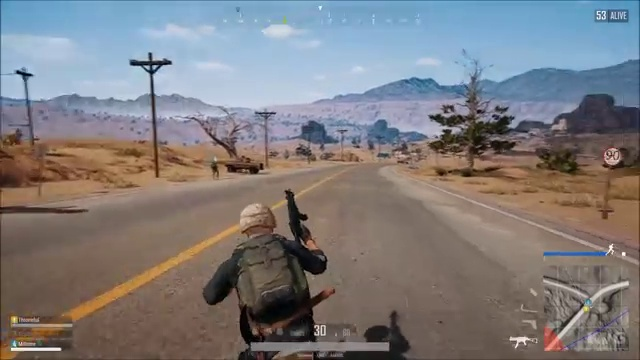Player: (173, 185, 376, 319)
